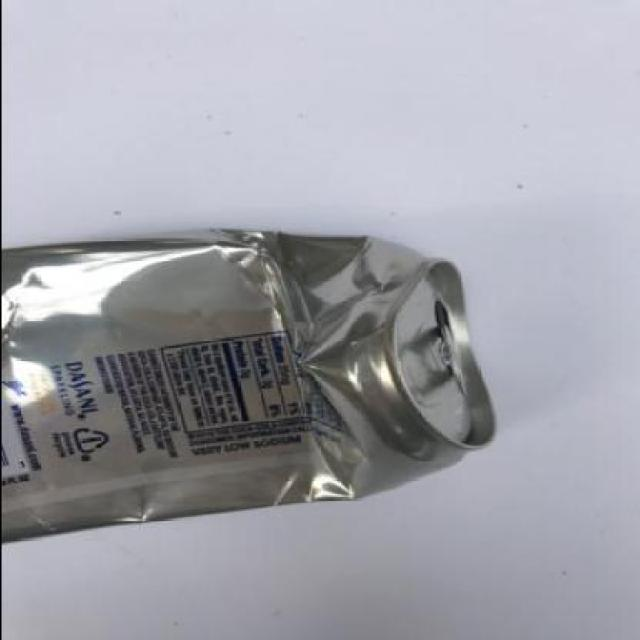METAL: (1, 226, 497, 543)
